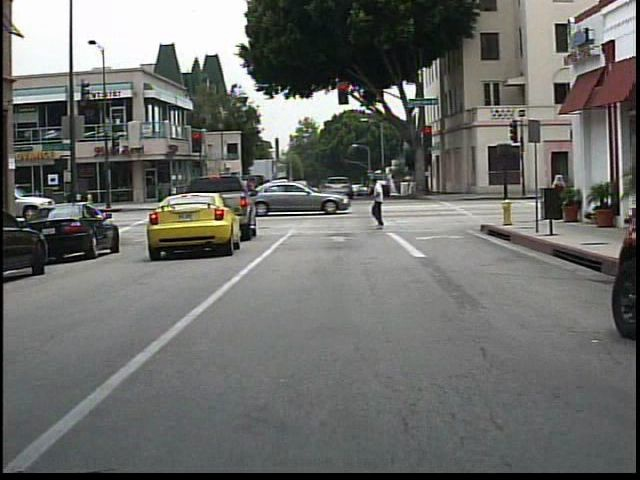person: (369, 178, 395, 234), (547, 173, 571, 222)
